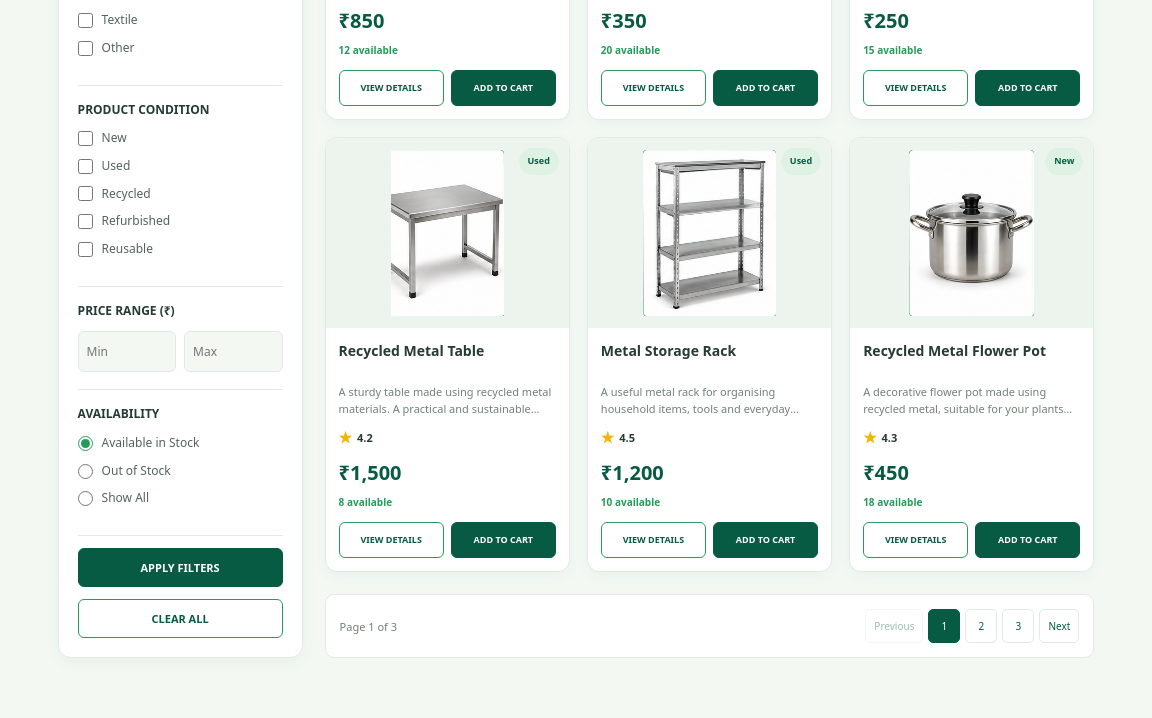
Test: SearchResults Component › moves back to the previous page
(page scrolled)
Click the button "Next": (1060, 626) [1040, 609, 1080, 643]
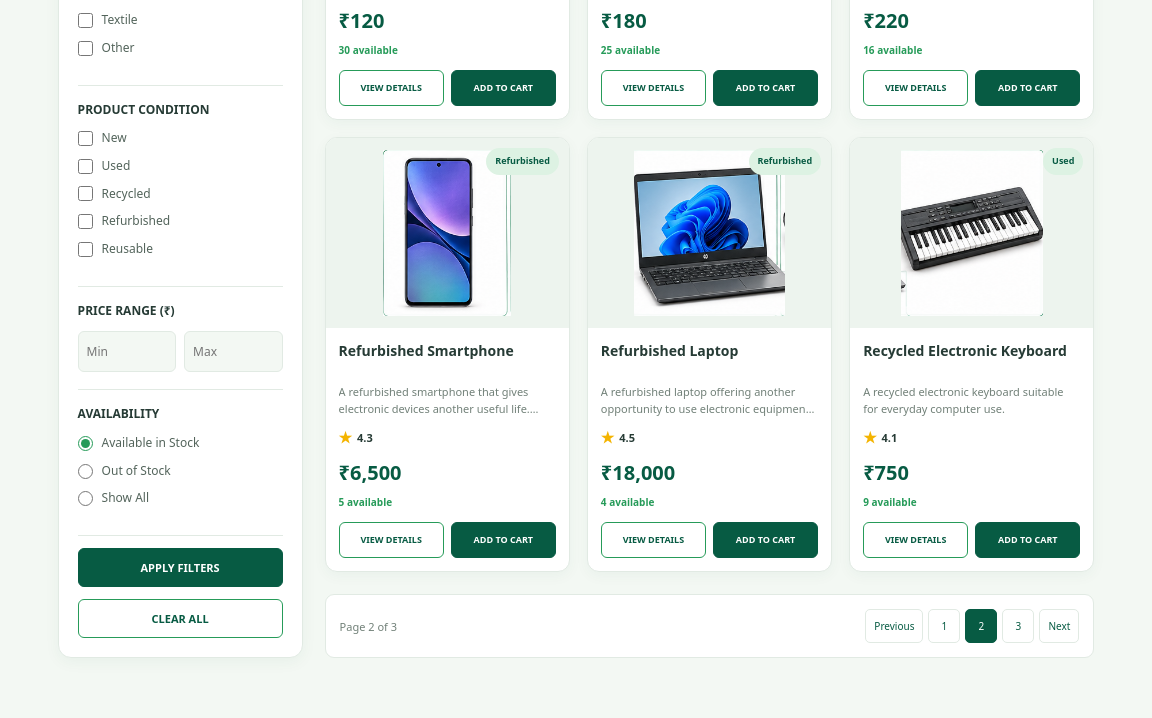
Click the button "Previous": (894, 626) [865, 609, 923, 643]
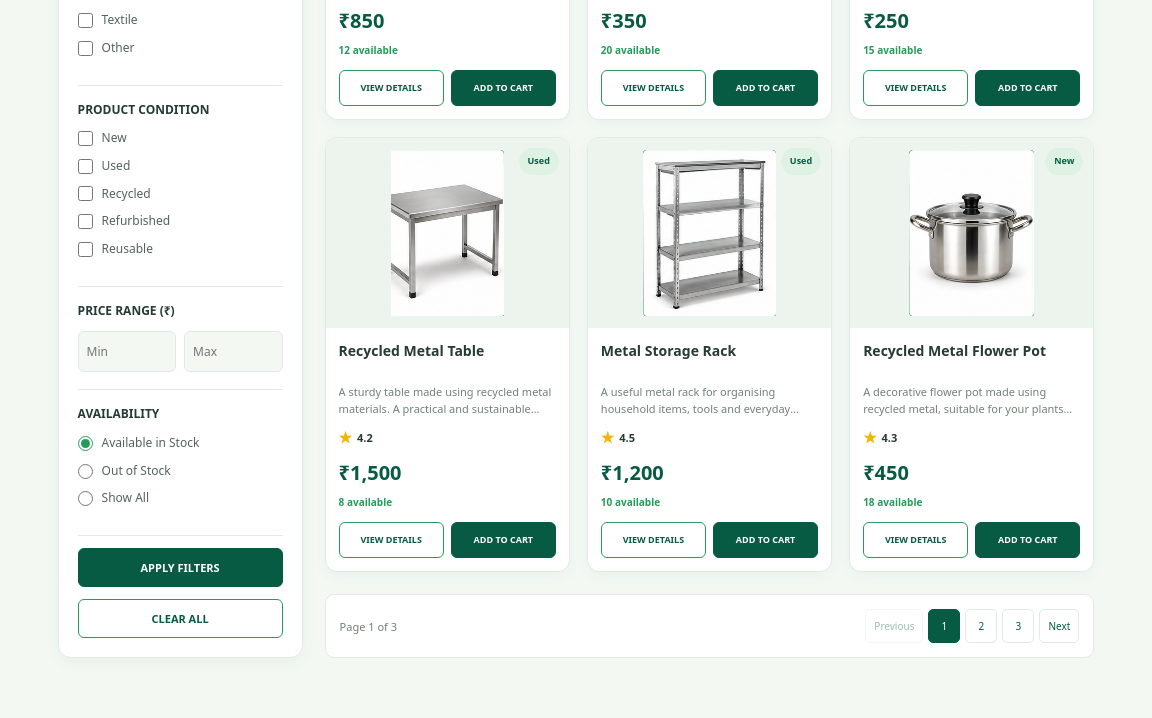
Expected: the element with class "search-pagination" shows "Page 1 of", [325, 594, 1094, 658]
